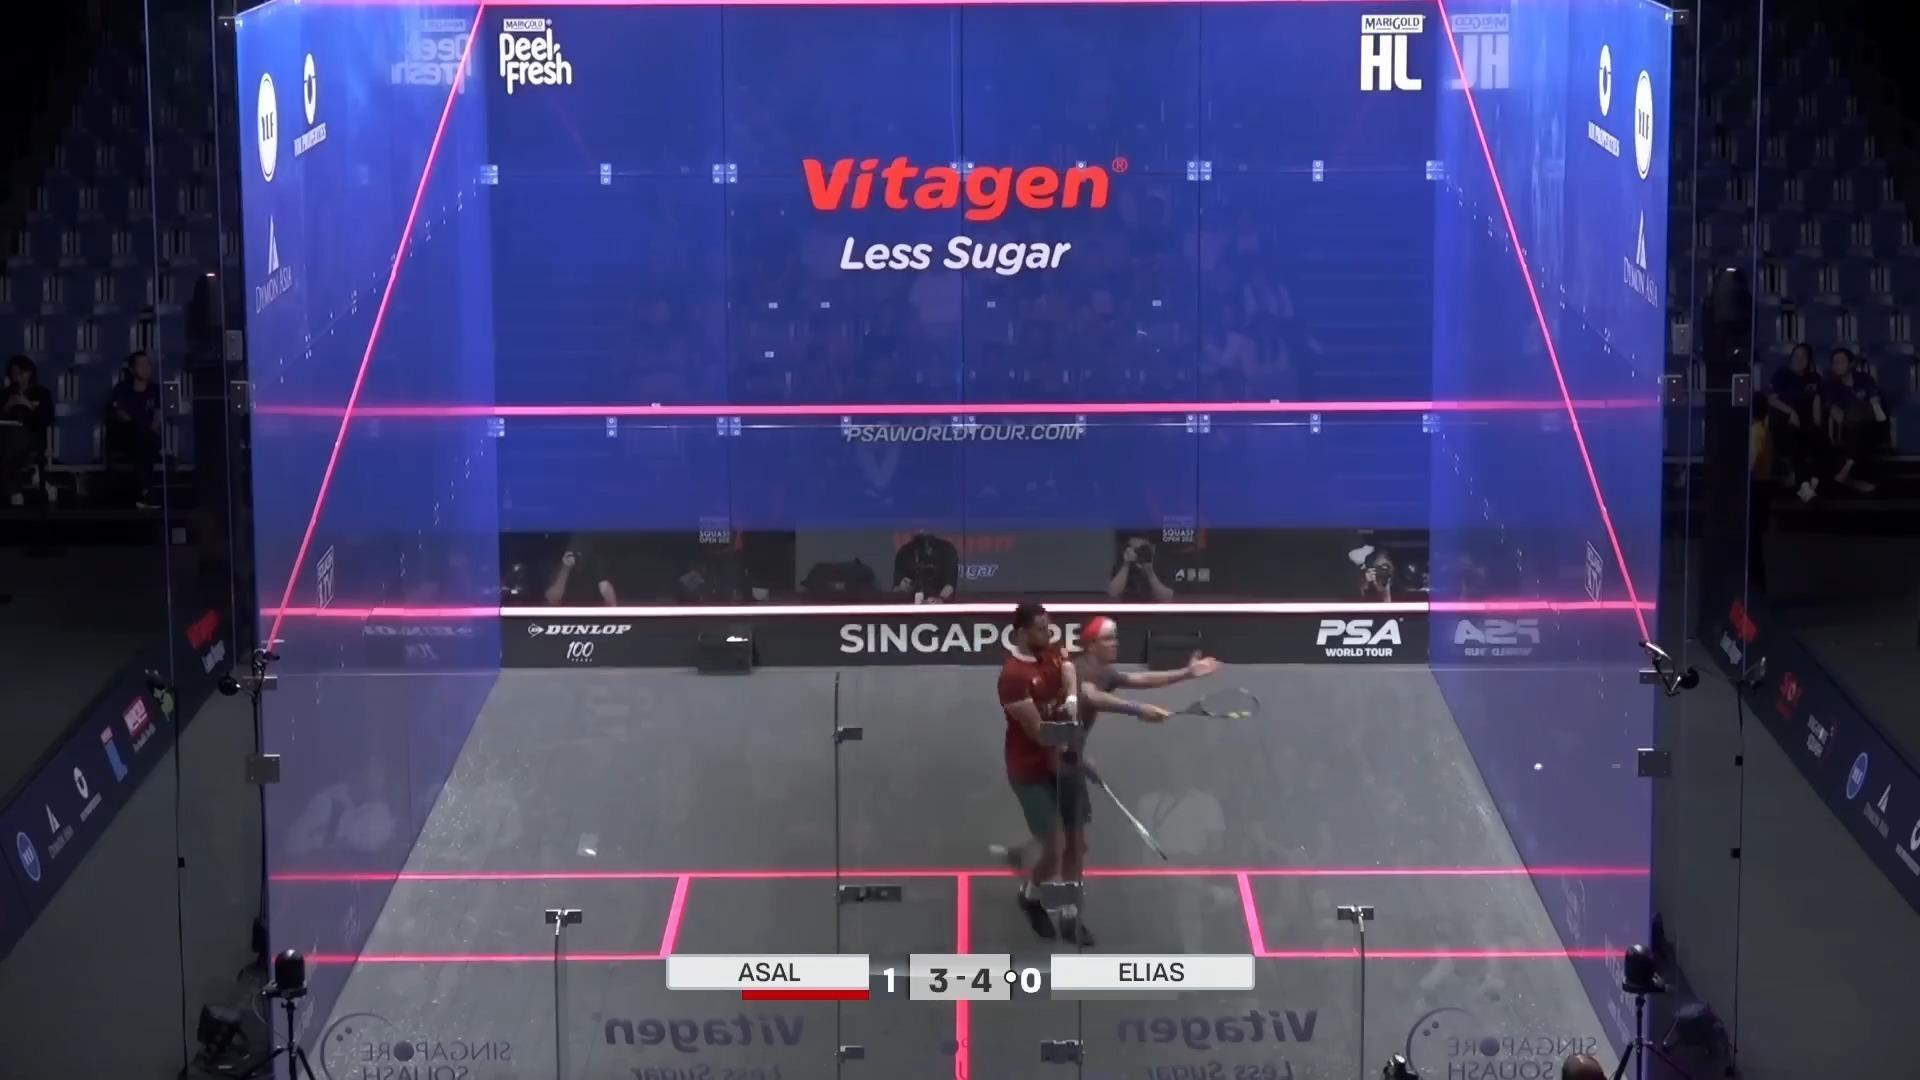Squash-Ball: (1519, 752, 1557, 785)
